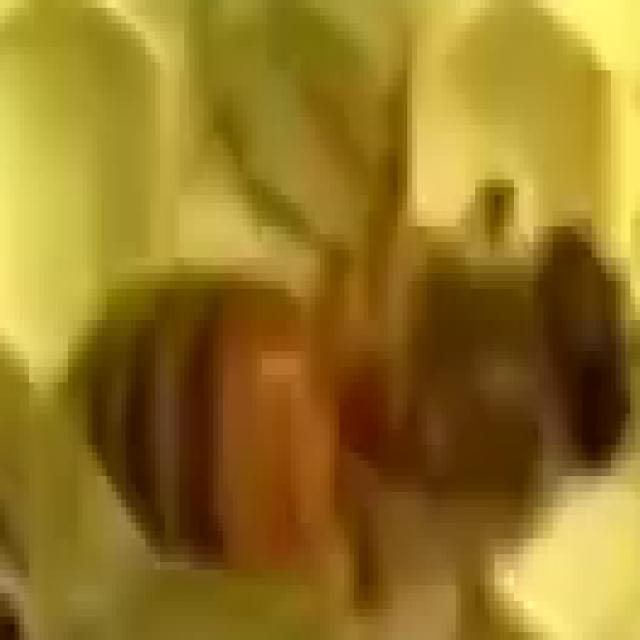honeybee: (53, 140, 640, 601)
